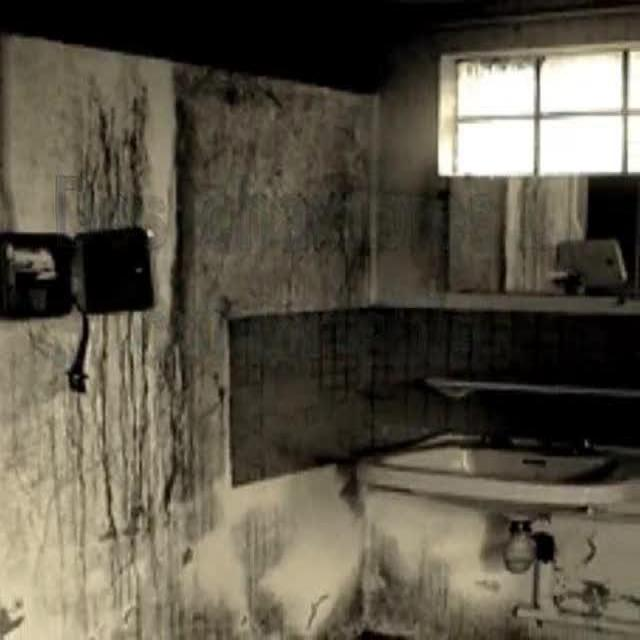other: (448, 74, 618, 183)
